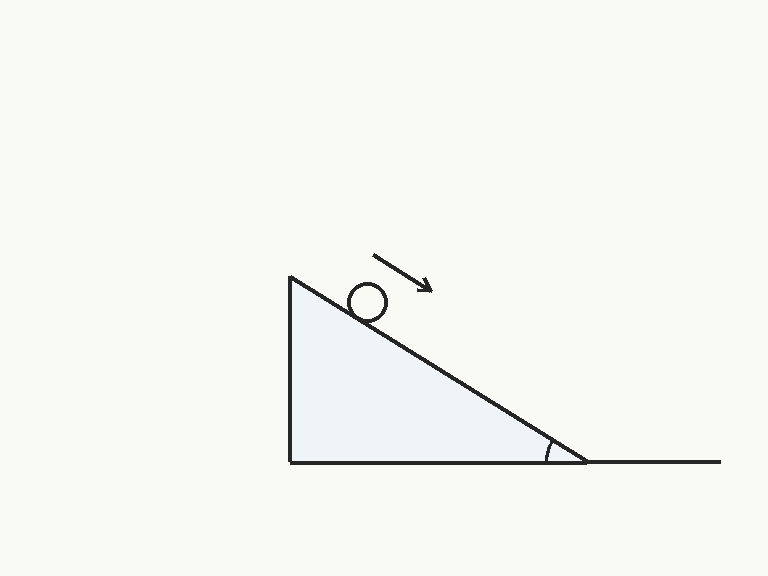ball: (345, 280, 389, 324)
ramp: (287, 275, 588, 464)
